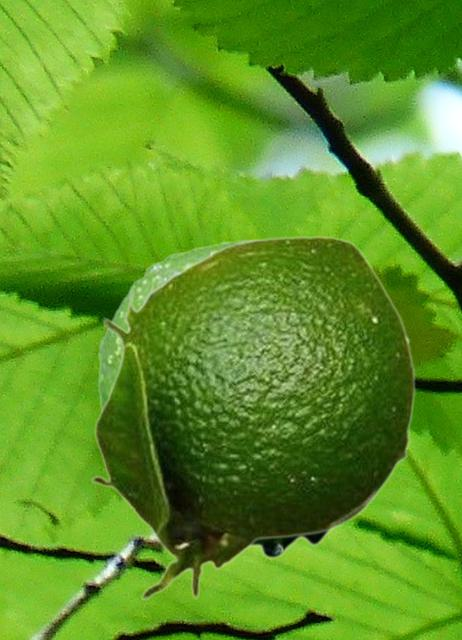dalandan: (89, 235, 415, 600), (97, 238, 409, 559)
